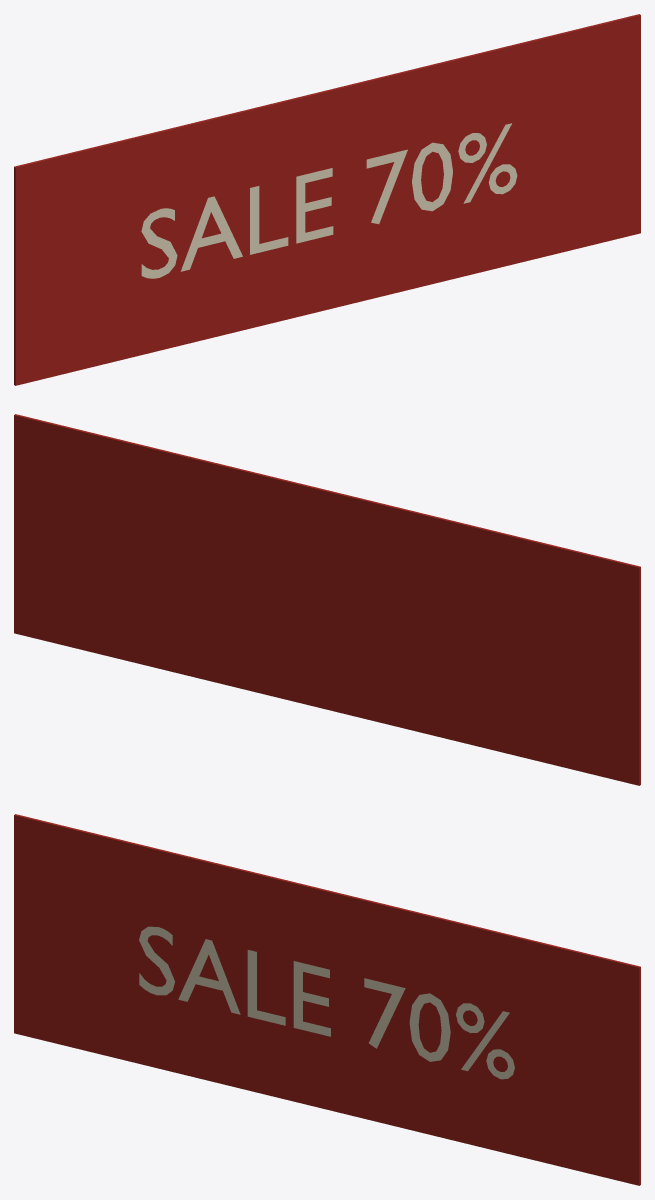
File: sale_banner.glb
3 views of the same model, one above another, from view 1: azimuth 30°, elevation 25°; view 2: azimuth 150°, elevation 25°; view 3: azimuth 330°, elevation 25° (orthographic).
Parts seen in each view (by area): view 1: SaleBanner; view 2: SaleBanner; view 3: SaleBanner.
Part boxes in pixels (x1,y1,x2,y2): SaleBanner: (14,14,640,385); SaleBanner: (14,414,640,785); SaleBanner: (14,814,640,1185).
Bounding box in the file's own units: 2.4 × 0.8 × 0.013.
